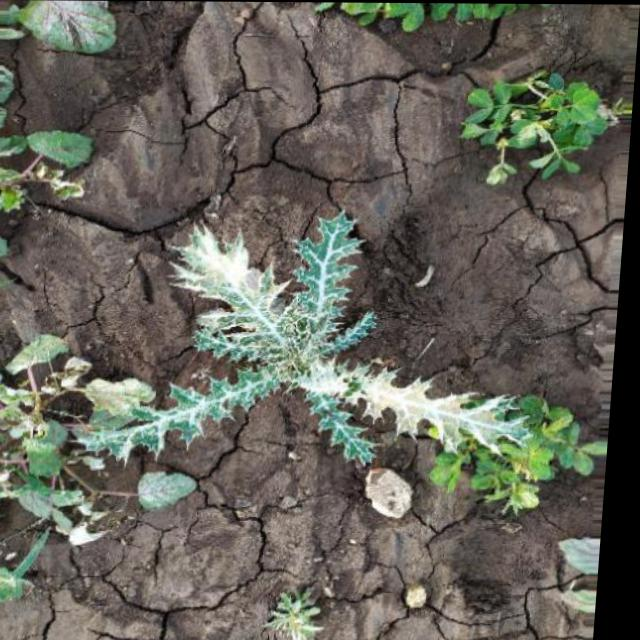weed: (92, 223, 612, 546), (0, 325, 116, 600), (0, 2, 114, 268), (437, 55, 619, 187)
